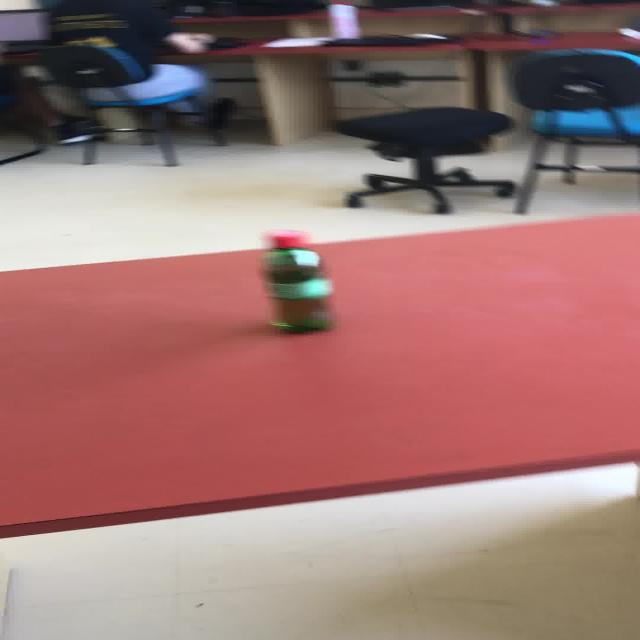guarana: (258, 228, 334, 333)
